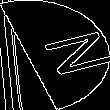N_W: (11, 27, 99, 83)
